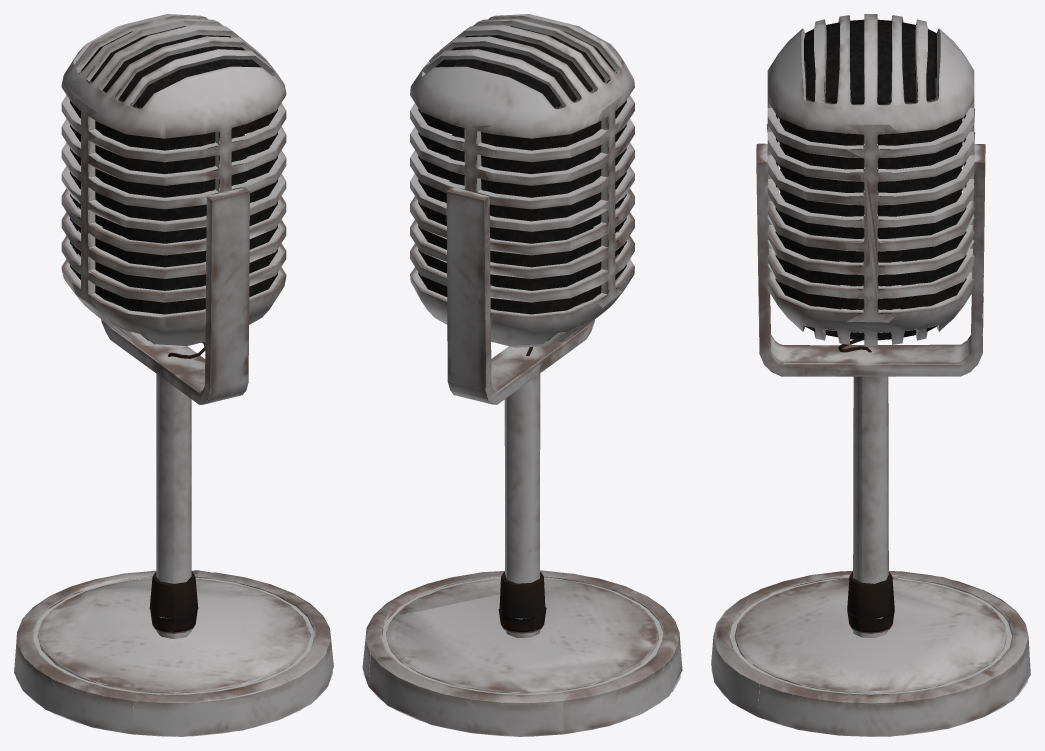
The model's file is vintage_microphone.glb.
3 renders of one model, left to right at view 1: azimuth 30°, elevation 25°; view 2: azimuth 150°, elevation 25°; view 3: azimuth 270°, elevation 25°, orthographic.
Parts seen in each view (by area): view 1: Circle__0.001; view 2: Circle__0.001; view 3: Circle__0.001.
Part boxes in pixels (x1,y1,x2,y2): Circle__0.001: (14,14,333,736); Circle__0.001: (362,14,682,736); Circle__0.001: (711,14,1030,736).
Size of the model in its own units: 16.97 by 37.4 by 16.99.
Materials: 1 (1 with a texture image).
